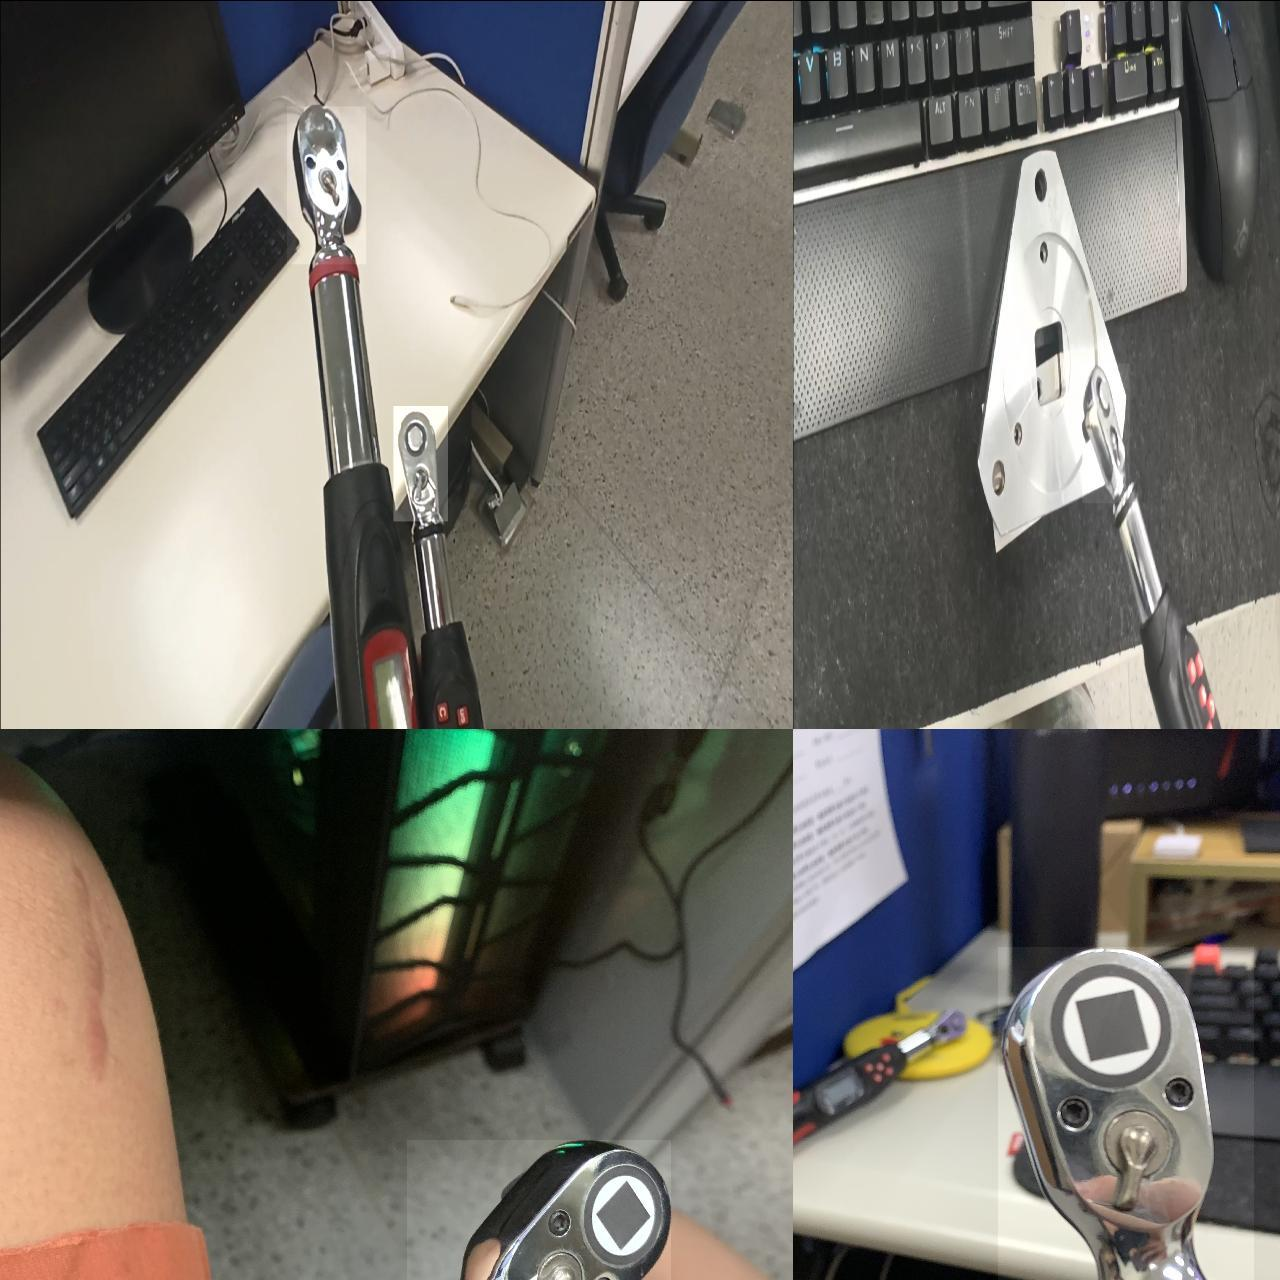Tool: (998, 946, 1253, 1280), (406, 1139, 670, 1280), (286, 105, 366, 264), (1081, 362, 1130, 503), (393, 404, 448, 520)
